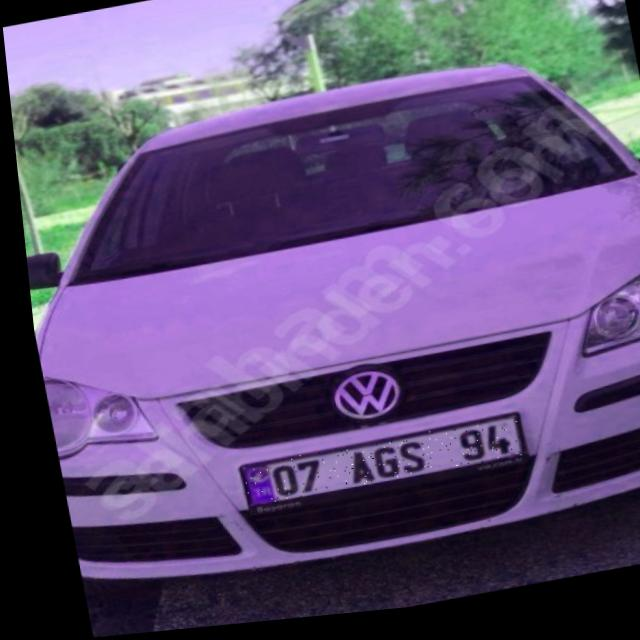license_plate: (229, 424, 514, 510)
